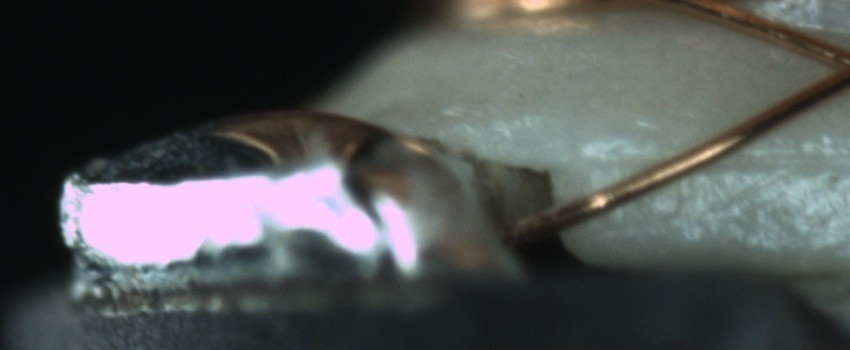CL: (804, 36, 850, 104)
DL: (607, 125, 847, 191)
